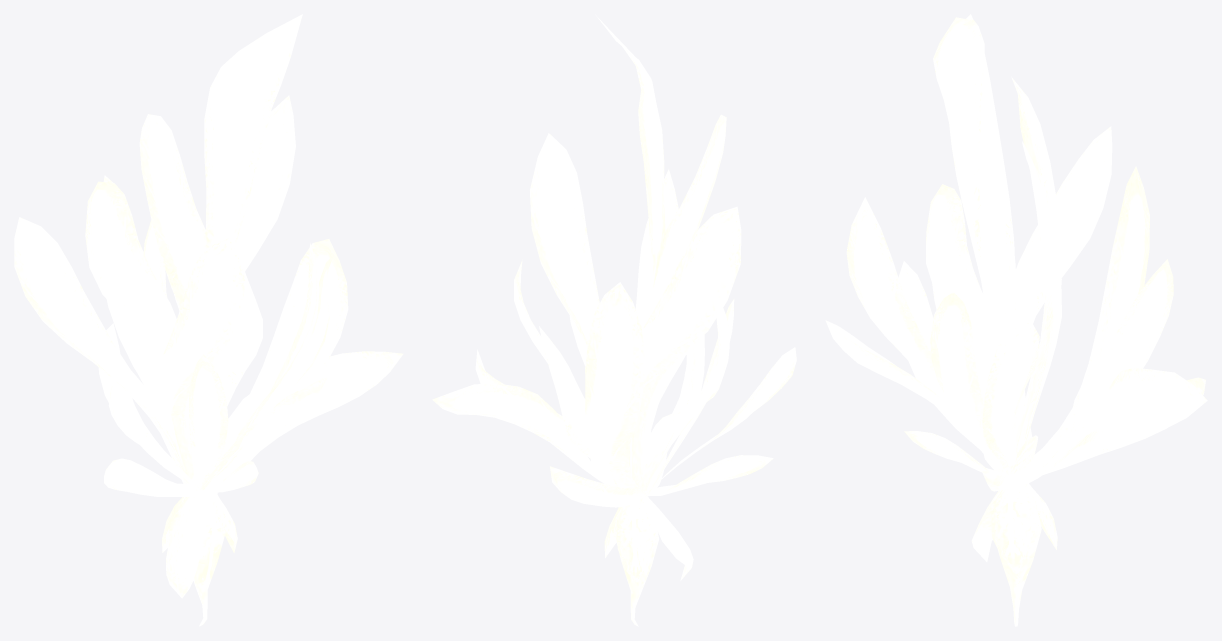
3 views of the same model, side by side, from view 1: azimuth 30°, elevation 25°; view 2: azimuth 150°, elevation 25°; view 3: azimuth 270°, elevation 25° (orthographic). The views are drawn at different scales.
Visible parts, largest first — view 1: SM_Snapdragon_v3_LOD0; view 2: SM_Snapdragon_v3_LOD0; view 3: SM_Snapdragon_v3_LOD0.
Boxes of the visible parts, x1=… form: SM_Snapdragon_v3_LOD0: x1=14, y1=14, x2=403, y2=626; SM_Snapdragon_v3_LOD0: x1=432, y1=14, x2=796, y2=626; SM_Snapdragon_v3_LOD0: x1=825, y1=14, x2=1207, y2=626.
Size of the model in its own units: 0.4453 by 0.7986 by 0.4272.
Materials: 1 (1 with a texture image).
